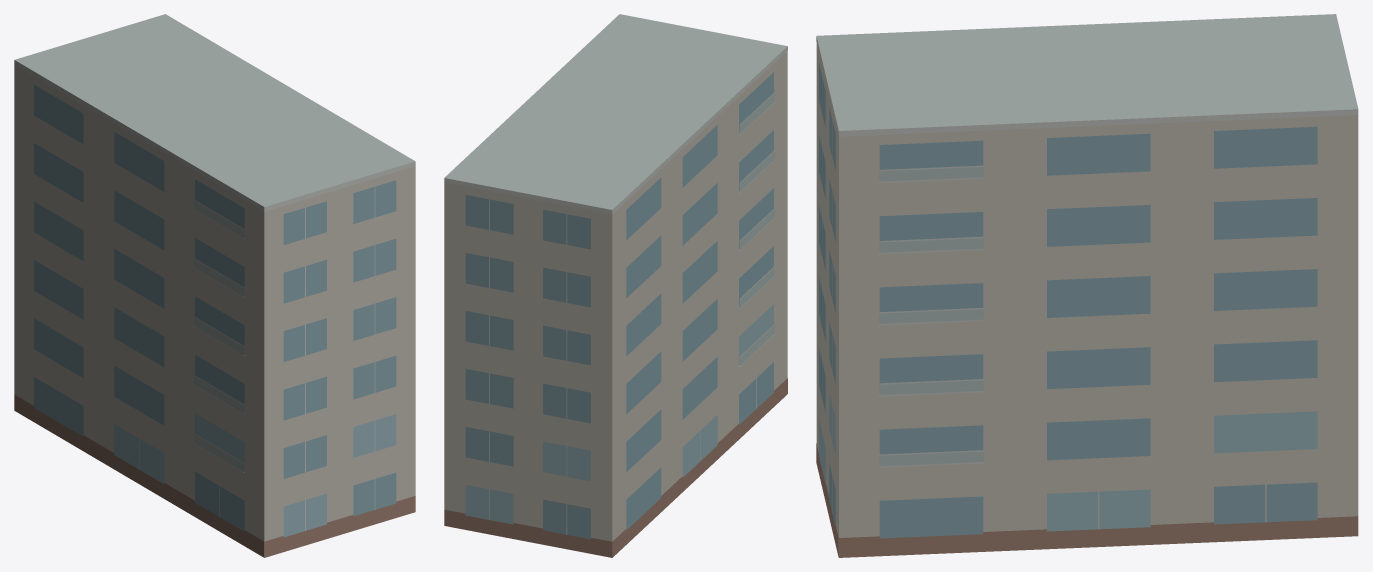
The model's file is survey-upis-32921185.glb.
3 views of the same model, side by side, from view 1: azimuth 30°, elevation 25°; view 2: azimuth 150°, elevation 25°; view 3: azimuth 270°, elevation 25° (orthographic). The views are drawn at different scales.
Visible parts, largest first — view 1: survey-upis-32921185.tmp; view 2: survey-upis-32921185.tmp; view 3: survey-upis-32921185.tmp.
Part boxes in pixels (left/top/right/bottom): survey-upis-32921185.tmp: left=14, top=14, right=415, bottom=557; survey-upis-32921185.tmp: left=444, top=14, right=787, bottom=557; survey-upis-32921185.tmp: left=816, top=14, right=1358, bottom=557.
Size of the model in its own units: 10.76 by 18.3 by 21.07.
